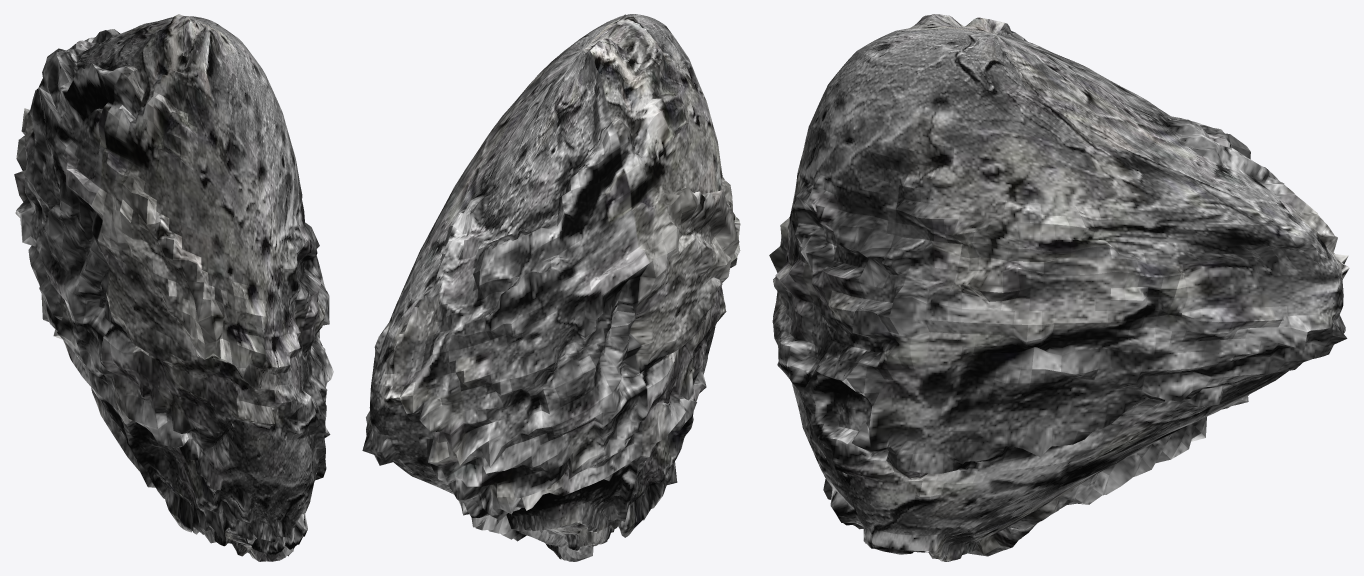
The picture shows the model from 3 angles, left to right: view 1: azimuth 30°, elevation 25°; view 2: azimuth 150°, elevation 25°; view 3: azimuth 270°, elevation 25°; orthographic projection.
Visible parts, largest first — view 1: Sphere; view 2: Sphere; view 3: Sphere.
Boxes of the visible parts, bbox=[...] form: Sphere: bbox=[14, 14, 333, 561]; Sphere: bbox=[362, 14, 740, 561]; Sphere: bbox=[769, 14, 1349, 561].
Bounding box in the file's own units: 0.7794 × 2.25 × 2.22.
Materials: 1 (1 with a texture image).
